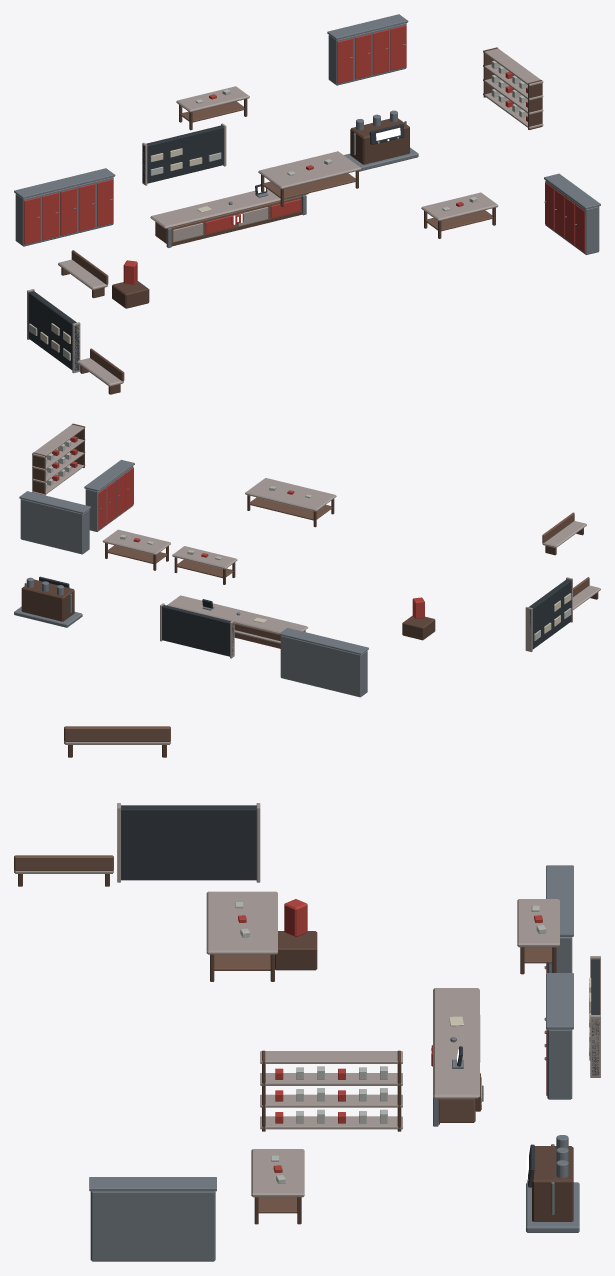
The model's file is redoubt_contract_yard.glb.
The picture shows the model from 3 angles, top to bottom: view 1: azimuth 30°, elevation 25°; view 2: azimuth 150°, elevation 25°; view 3: azimuth 270°, elevation 25°; orthographic projection. The views are drawn at different scales.
Size of the model in its own units: 25.71 by 6.36 by 16.45.
